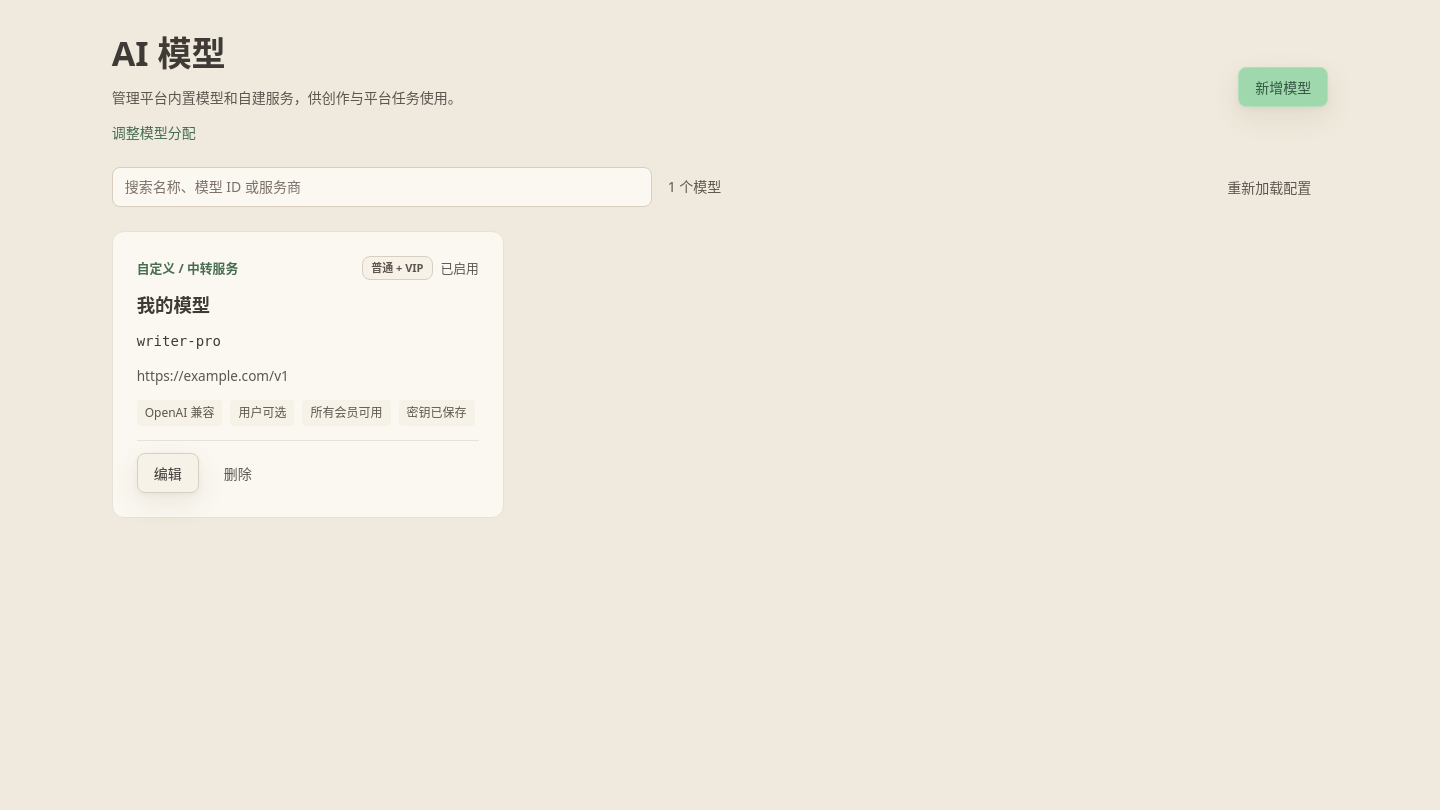
shows a model list and opens a single editor; cancel never saves or probes
Expected: the heading "AI 模型" is shown, [112, 29, 226, 76]
Expected: the field labelled "请求地址" is not shown
What coordinates should you click on to do the following:
click the button "新增模型"
I would click on:
 (1283, 88)
Its box is [1238, 68, 1328, 108].
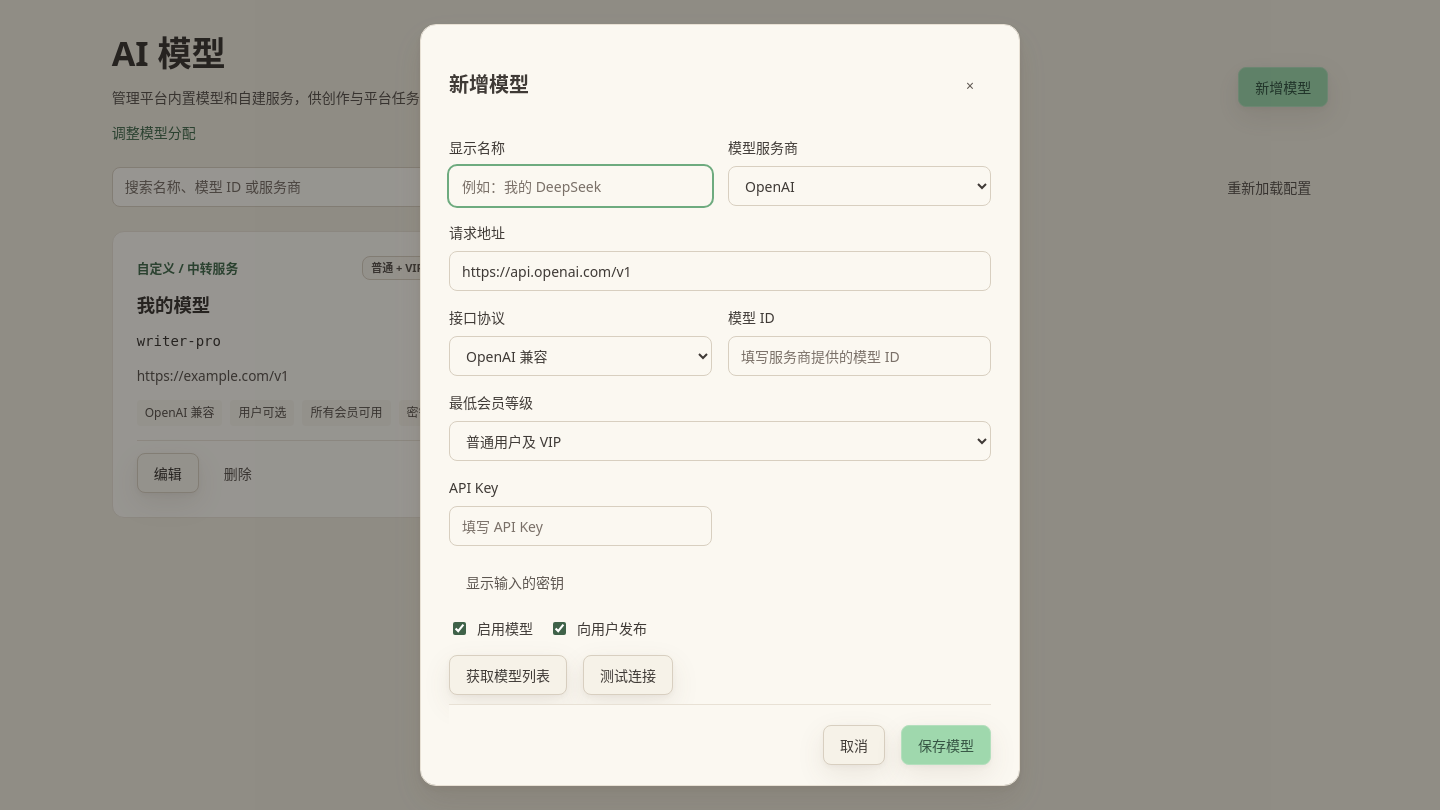
Result: the dialog "新增模型" is shown at [420, 24, 1020, 786]
What coordinates should you click on to do the following:
click the button "取消"
I would click on:
 (854, 745)
Its box is [823, 725, 885, 765].
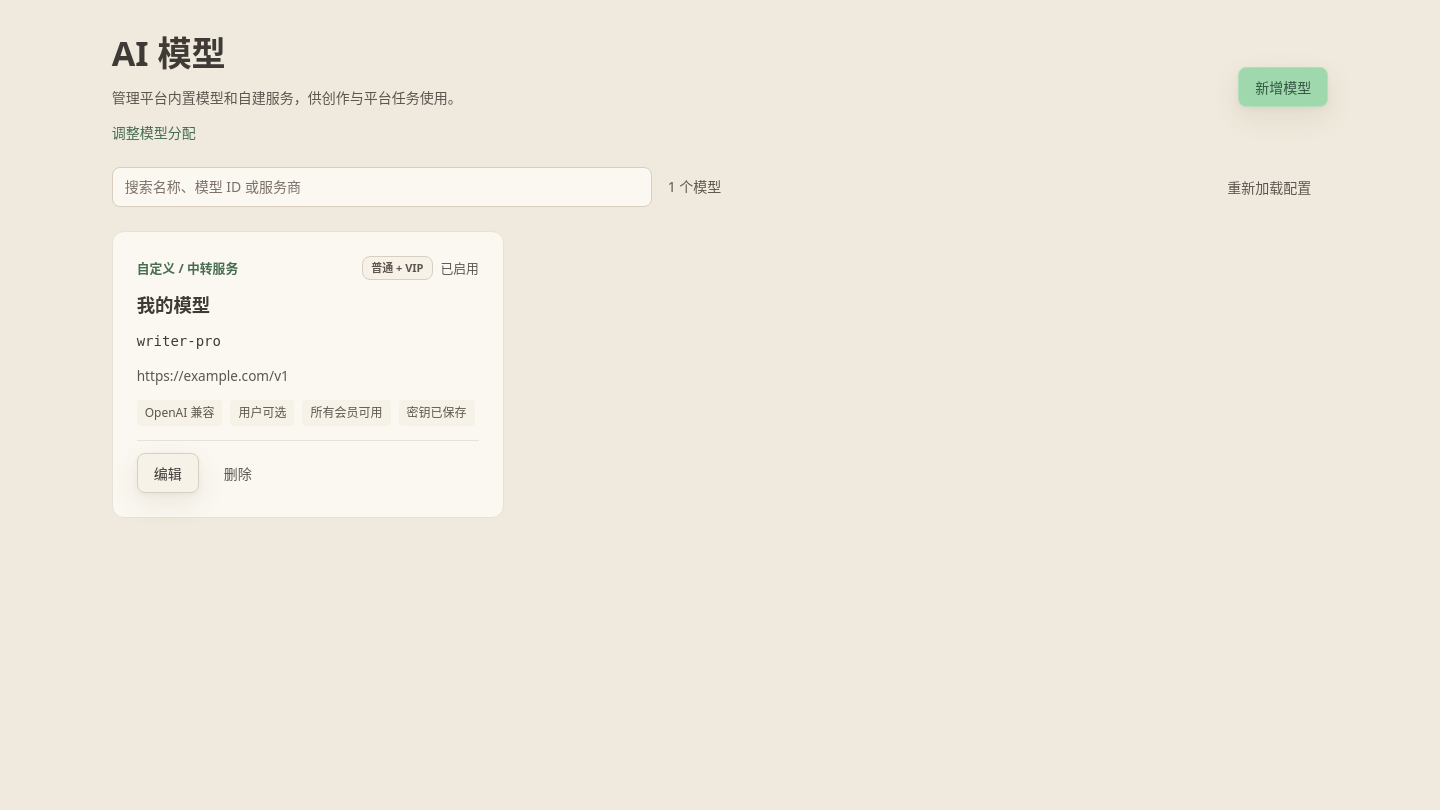
Result: the dialog is gone
